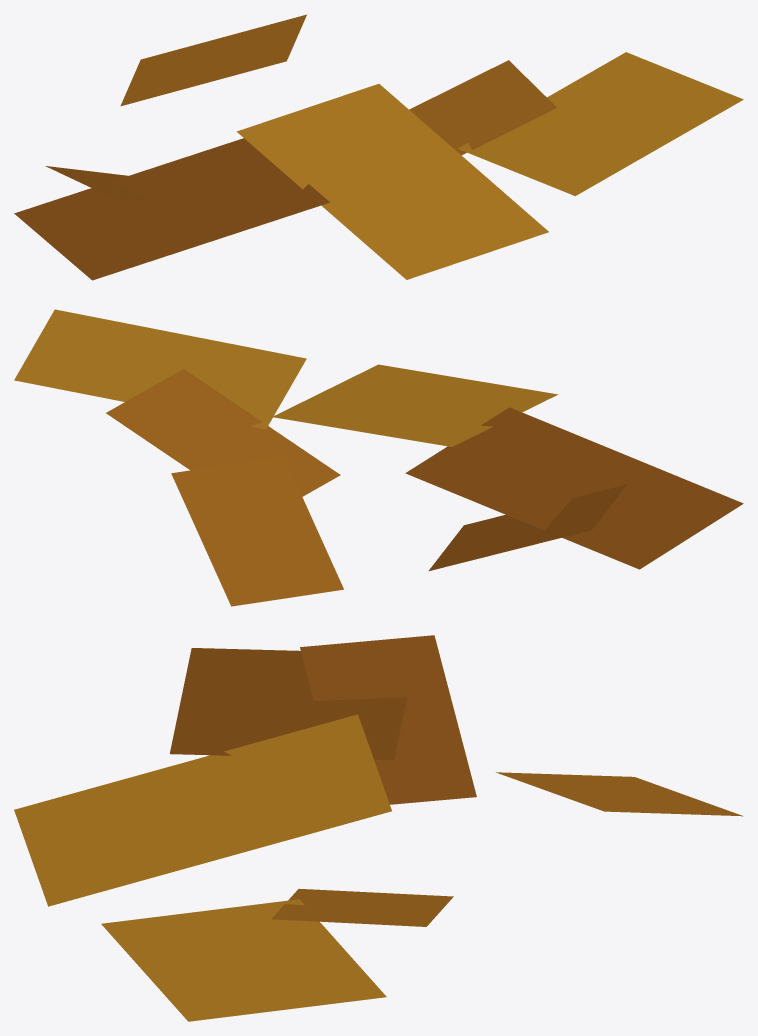
The model's file is GroundCover_DeadLeaves_01.glb.
3 views of the same model, one above another, from view 1: azimuth 30°, elevation 25°; view 2: azimuth 150°, elevation 25°; view 3: azimuth 270°, elevation 25° (orthographic). The views are drawn at different scales.
Visible parts, largest first — view 1: GroundCover_DeadLeaves_01; view 2: GroundCover_DeadLeaves_01; view 3: GroundCover_DeadLeaves_01.
Part boxes in pixels (left/top/right/bottom): GroundCover_DeadLeaves_01: left=14, top=14, right=743, bottom=280; GroundCover_DeadLeaves_01: left=14, top=309, right=743, bottom=606; GroundCover_DeadLeaves_01: left=14, top=635, right=743, bottom=1021.
Size of the model in its own units: 0.319 by 0.0386 by 0.2439.
